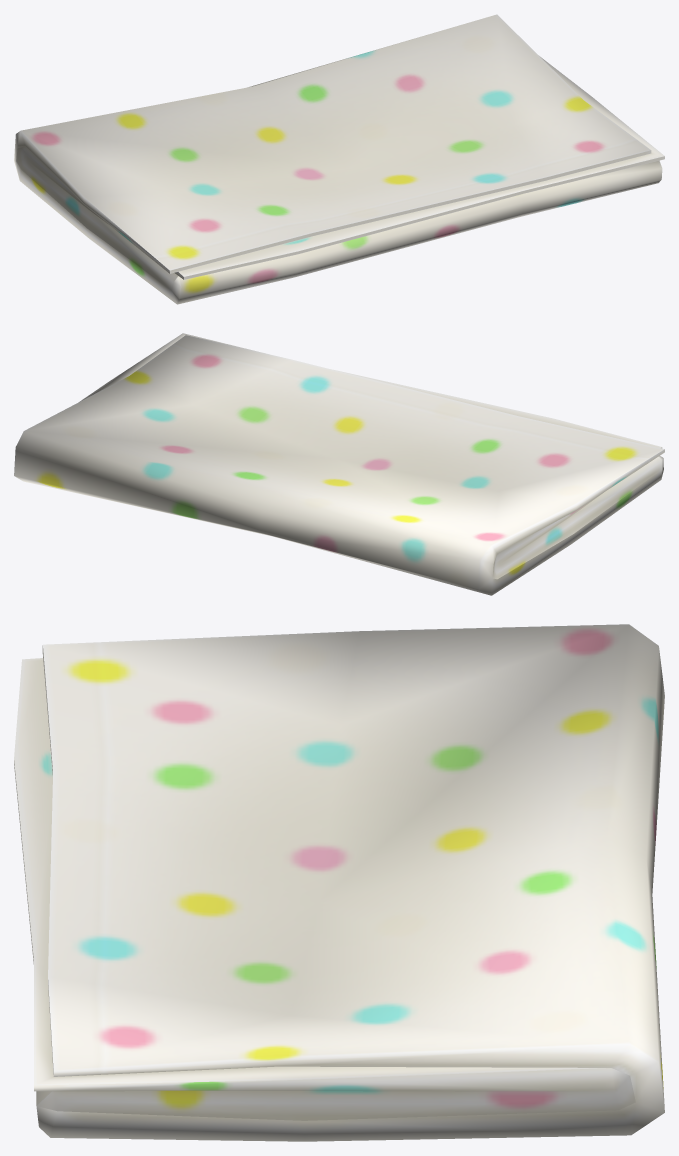
The model's file is set_longtowel_01.fbx.
3 renders of one model, top to bottom at view 1: azimuth 30°, elevation 25°; view 2: azimuth 150°, elevation 25°; view 3: azimuth 270°, elevation 25°, orthographic. The views are drawn at different scales.
Parts seen in each view (by area): view 1: set_longtowel_01; view 2: set_longtowel_01; view 3: set_longtowel_01.
Boxes of the visible parts, left/top/right/bottom form: set_longtowel_01: left=14, top=14, right=664, bottom=304; set_longtowel_01: left=14, top=333, right=664, bottom=595; set_longtowel_01: left=14, top=624, right=664, bottom=1141.
Size of the model in its own units: 31.63 by 3.21 by 19.98.
